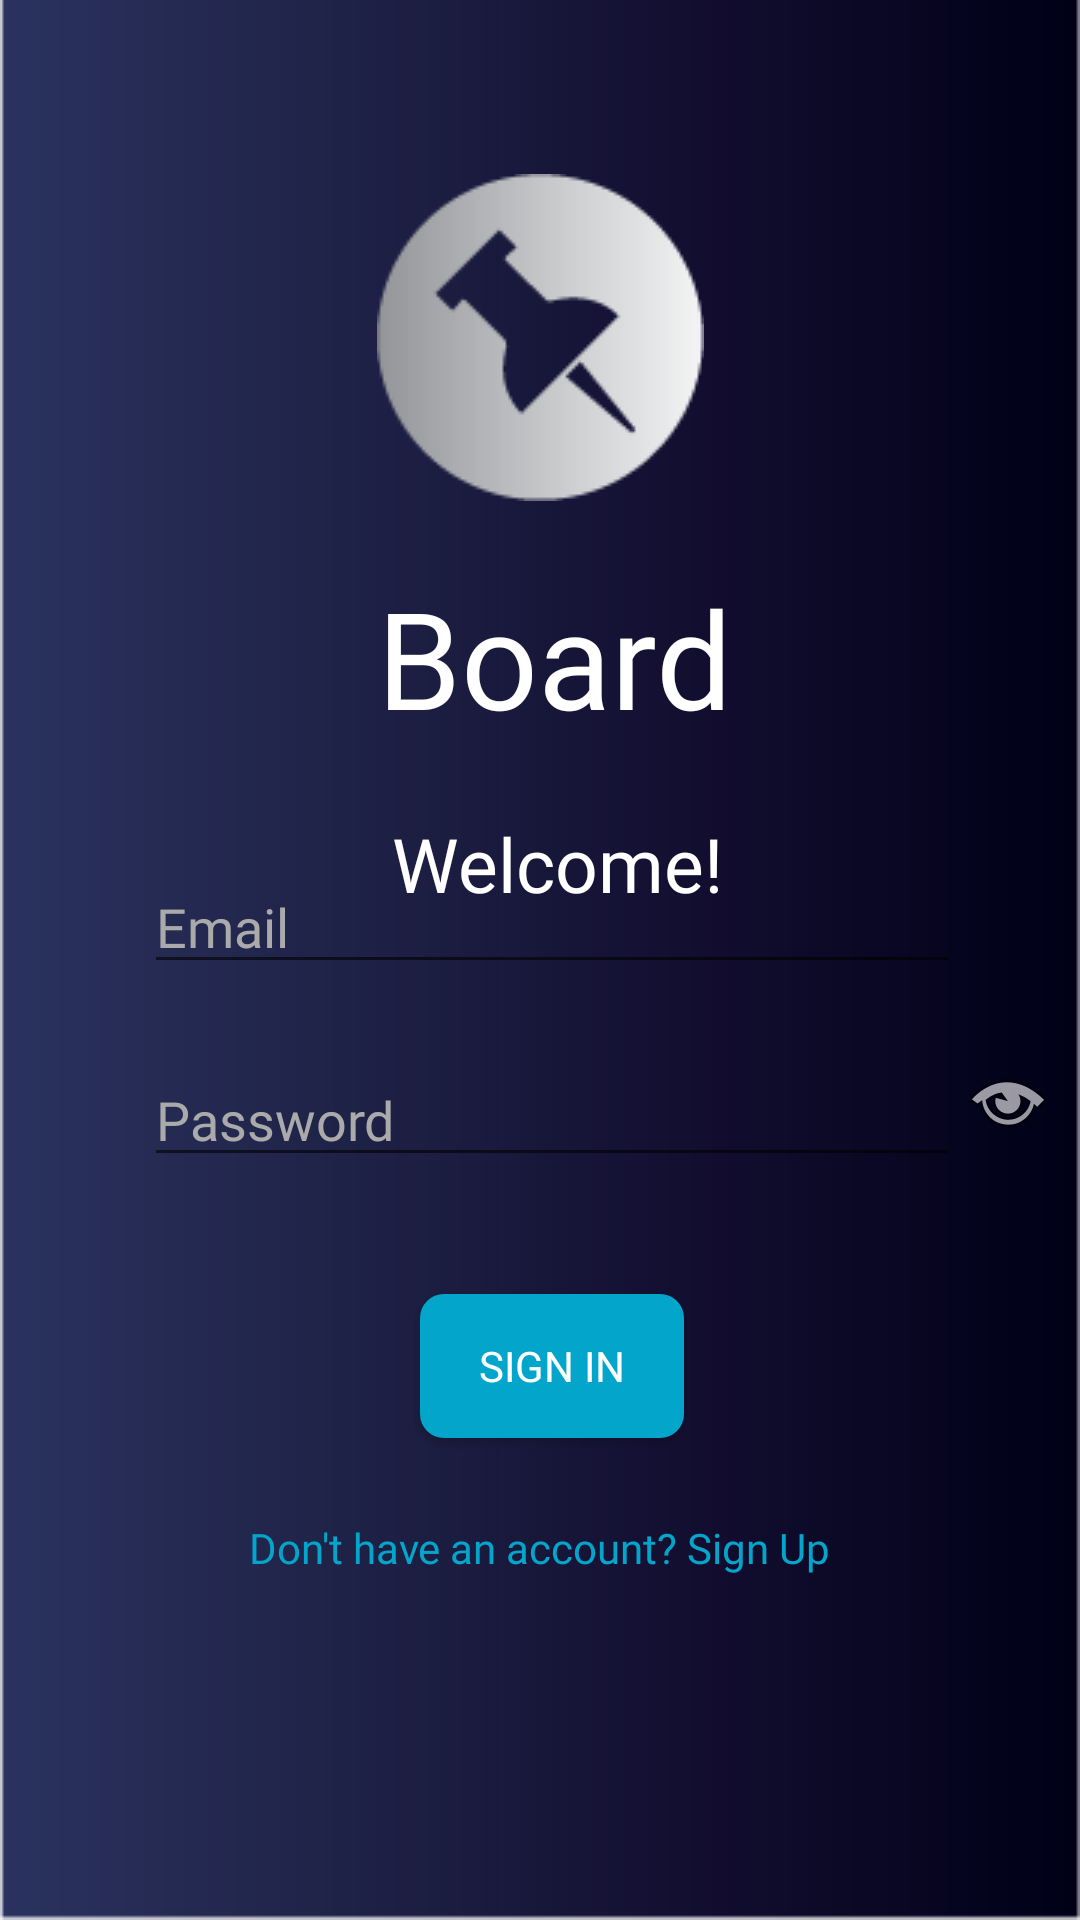

Locate icon controls on the screen. Image size 1080 × 1920, boxes as (x1, y1, x2, y2).
view: (972, 1082, 1044, 1125)
